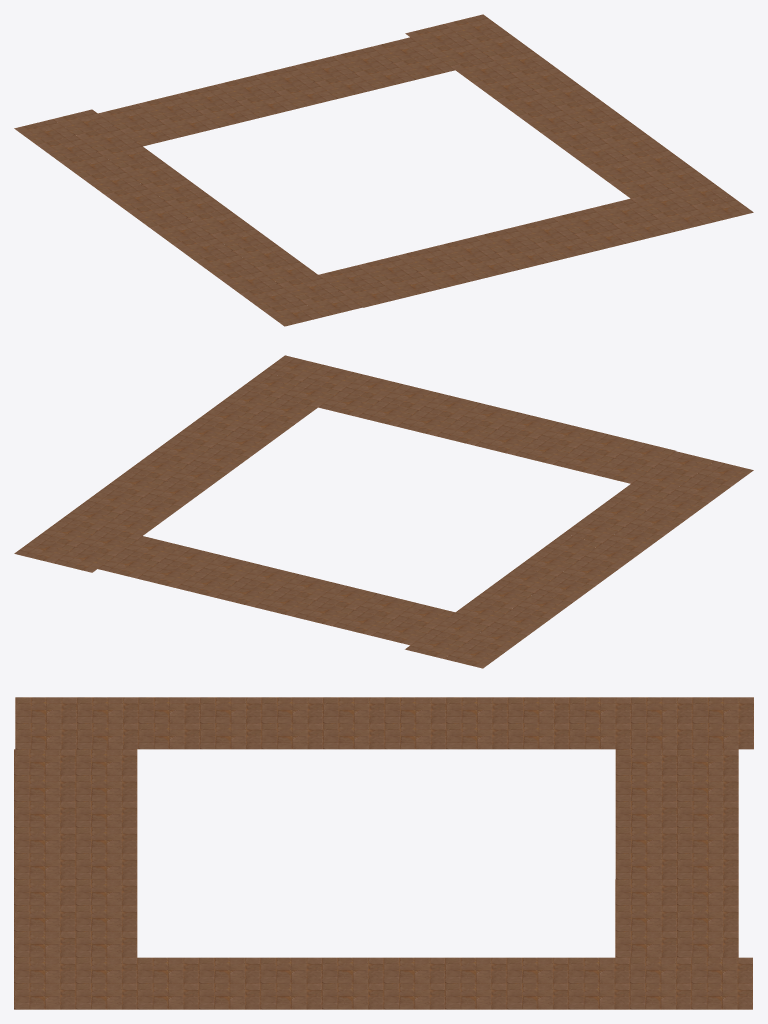
Rendered from Area_05_8.FBX.
3 renders of one model, top to bottom at view 1: azimuth 30°, elevation 25°; view 2: azimuth 150°, elevation 25°; view 3: azimuth 270°, elevation 25°, orthographic. The views are drawn at different scales.
Visible parts, largest first — view 1: Area_05_8; view 2: Area_05_8; view 3: Area_05_8.
Part boxes in pixels (left/top/right/bottom): Area_05_8: left=14, top=14, right=753, bottom=326; Area_05_8: left=14, top=355, right=753, bottom=668; Area_05_8: left=14, top=697, right=753, bottom=1009.
Bounding box in the file's own units: 4033 × 0.1003 × 4040.
Materials: 1 (1 with a texture image).
